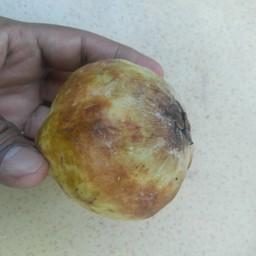Bad_guava: (35, 57, 196, 222)
